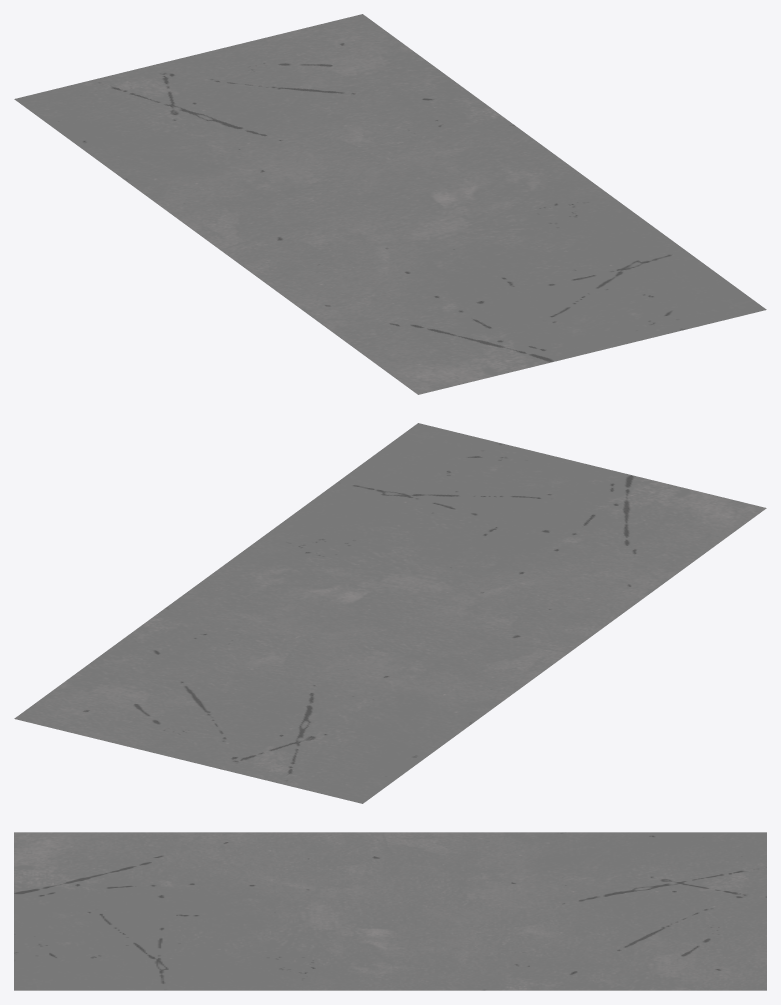
File: 4 tenjou2.fbx
The picture shows the model from 3 angles, top to bottom: view 1: azimuth 30°, elevation 25°; view 2: azimuth 150°, elevation 25°; view 3: azimuth 270°, elevation 25°; orthographic projection. The views are drawn at different scales.
Visible parts, largest first — view 1: polySurface220.001; view 2: polySurface220.001; view 3: polySurface220.001.
Part boxes in pixels (left/top/right/bottom): polySurface220.001: left=14, top=14, right=766, bottom=394; polySurface220.001: left=14, top=423, right=766, bottom=803; polySurface220.001: left=14, top=832, right=766, bottom=990.
Bounding box in the file's own units: 31.93 × 6.72e-06 × 64.09.
Materials: 1 (1 with a texture image).
